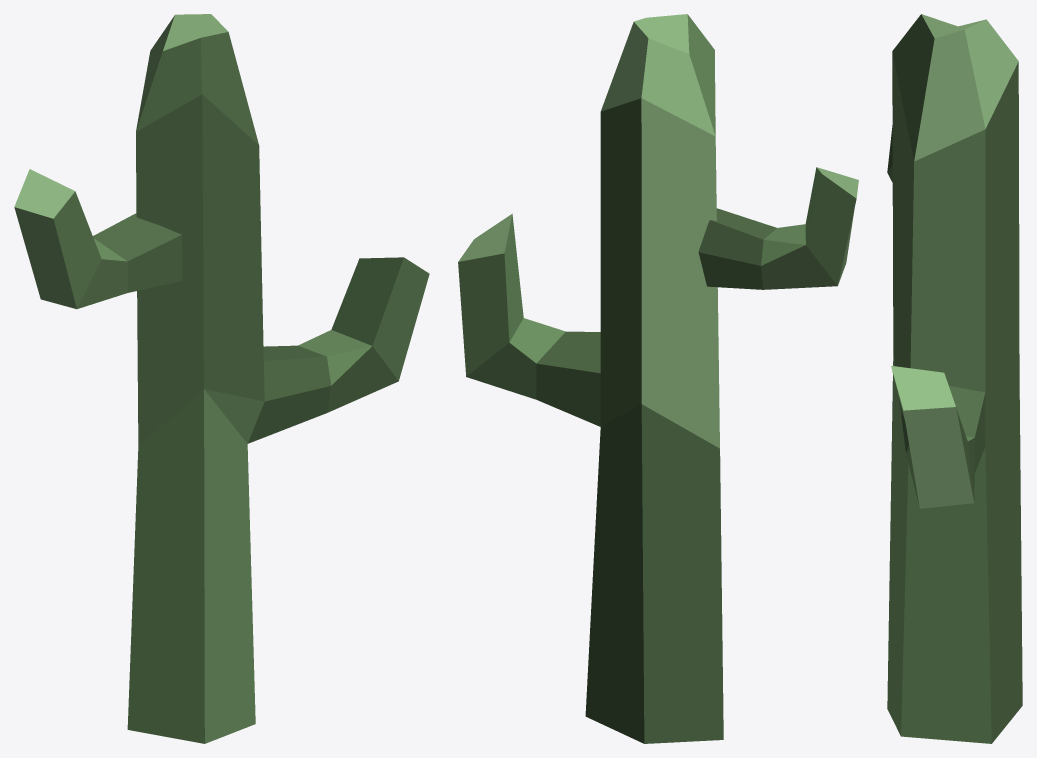
File: cactus_a.dae
The picture shows the model from 3 angles, left to right: view 1: azimuth 30°, elevation 25°; view 2: azimuth 150°, elevation 25°; view 3: azimuth 270°, elevation 25°; orthographic projection.
Parts seen in each view (by area): view 1: Cactus2; view 2: Cactus2; view 3: Cactus2.
Part boxes in pixels (<box>): Cactus2: <box>14,14,429,743</box>; Cactus2: <box>458,14,858,743</box>; Cactus2: <box>887,14,1022,743</box>.
Bounding box in the file's own units: 1.09 × 0.3167 × 1.81.
Materials: 1 (1 with a texture image).
